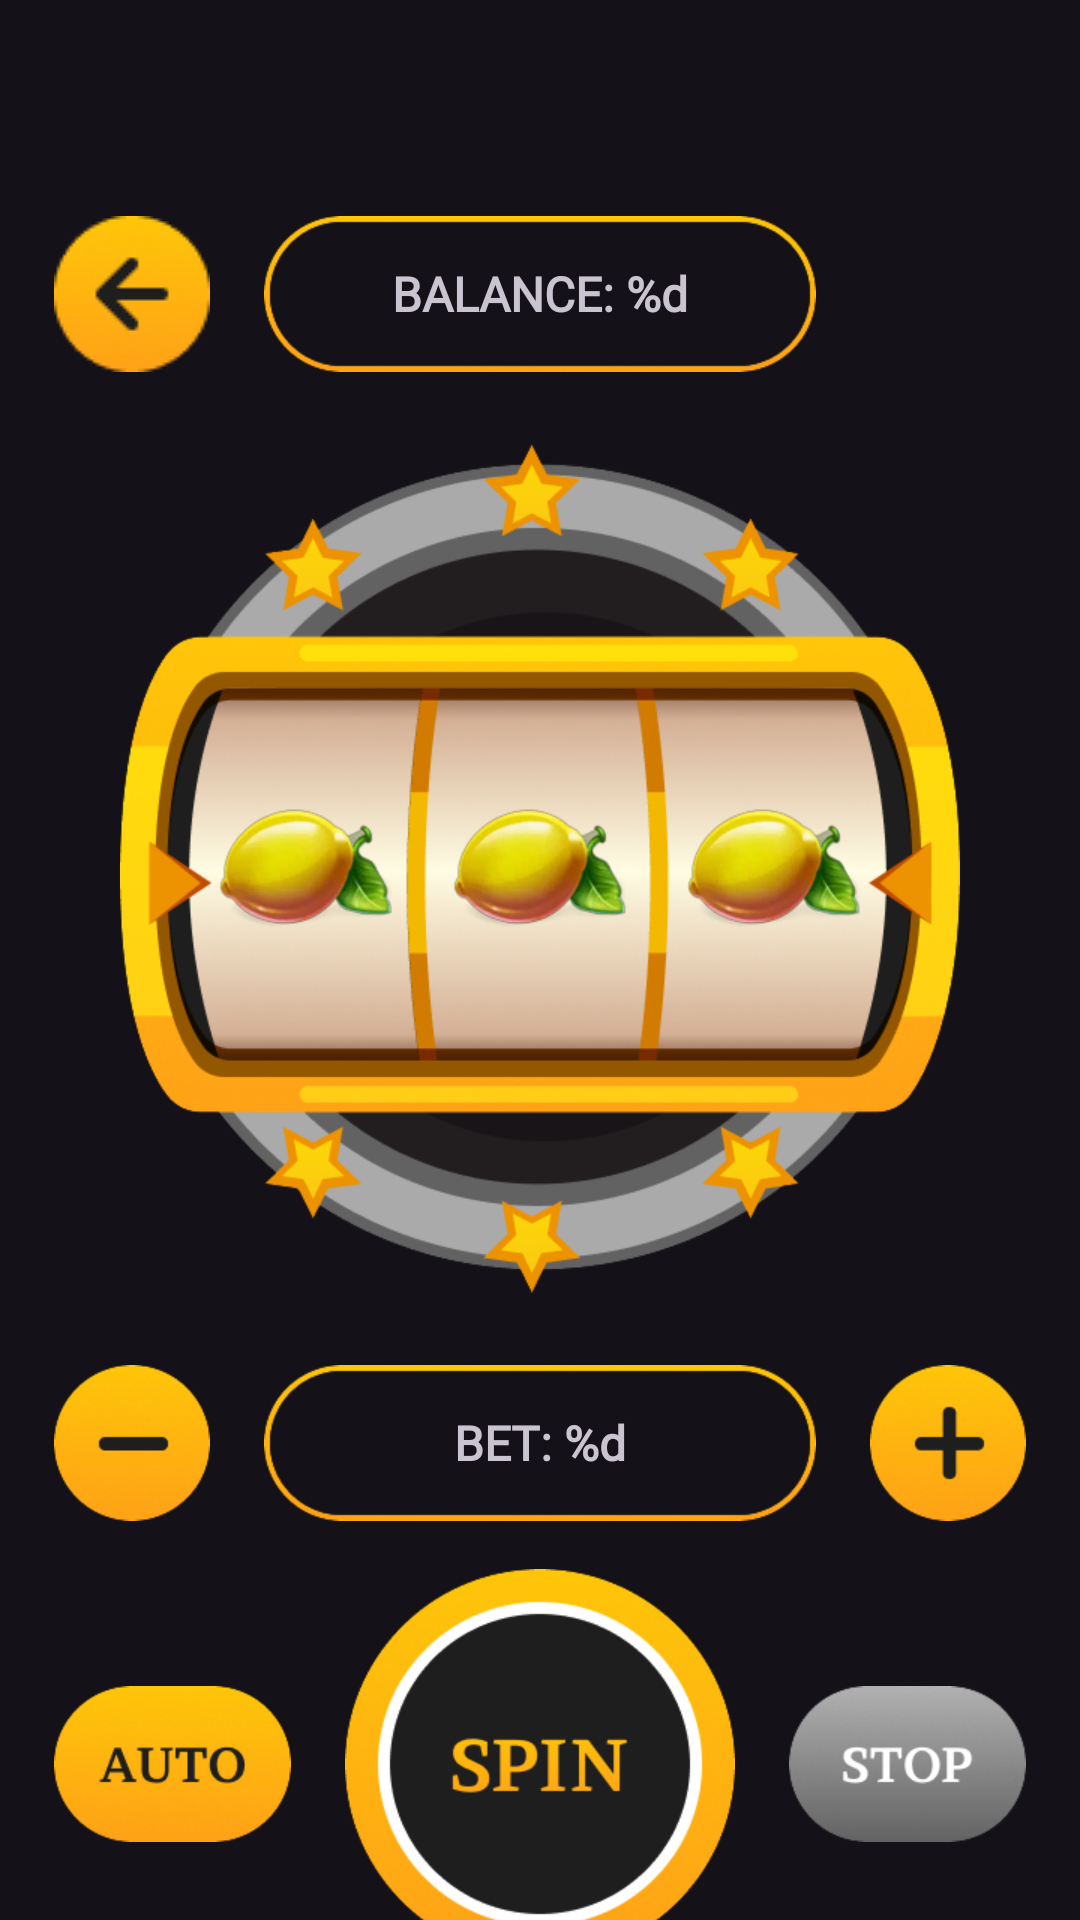

Named icons in this screenshot (1080 × 1920) and their bounding boxes, (x1, y1, x2, y2):
slots element: (216, 810, 396, 926), (450, 810, 630, 926), (684, 810, 864, 926)
